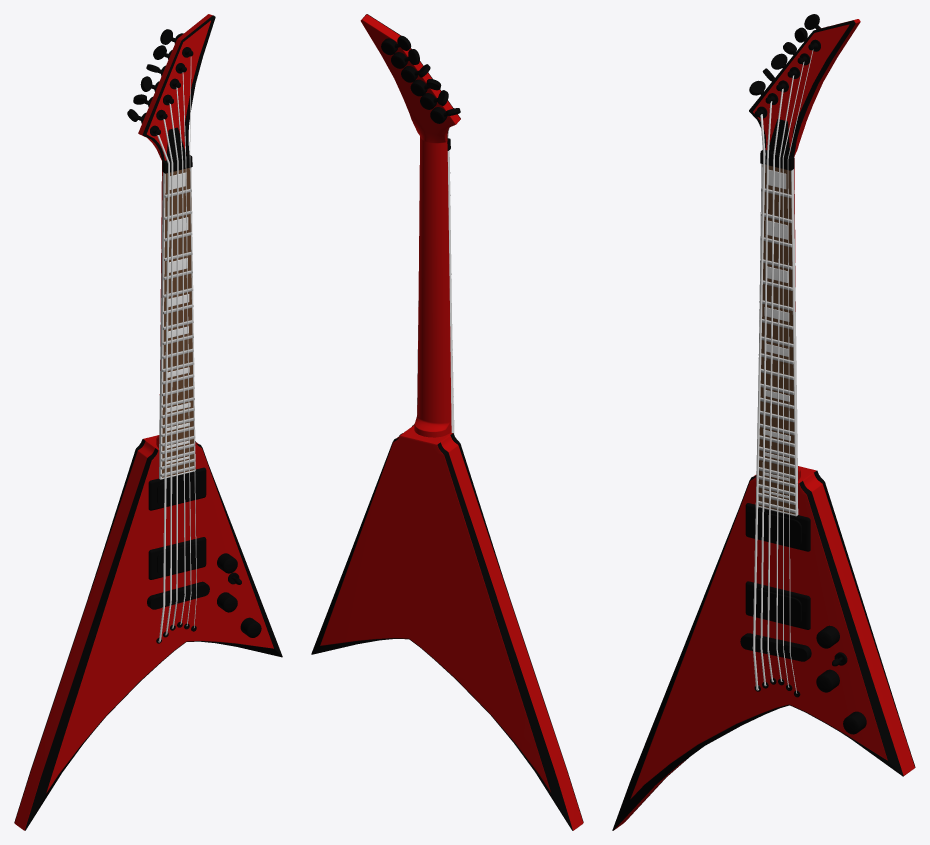
File: guitar.glb
3 views of the same model, side by side, from view 1: azimuth 30°, elevation 25°; view 2: azimuth 150°, elevation 25°; view 3: azimuth 330°, elevation 25° (orthographic). The views are drawn at different scales.
Visible parts, largest first — view 1: pCube2, pCube46, EbonyFingerboard, Neck, OptionalFingerboard, pCylinder14, pCylinder15, pCylinder16, Headline, pCylinder17, pCube43, pCube47 (+5 smaller); view 2: pCube2, Neck, pCube46, OptionalFingerboard; view 3: pCube2, pCube46, EbonyFingerboard, Neck, pCylinder14, pCylinder15, OptionalFingerboard, pCylinder16, Headline, pCylinder17, pCube43, pCube47 (+5 smaller).
Boxes of the visible parts, bbox=[...] form: pCube2: bbox=[14, 435, 273, 830]; pCube46: bbox=[14, 439, 282, 830]; EbonyFingerboard: bbox=[162, 168, 194, 477]; Neck: bbox=[138, 14, 212, 448]; OptionalFingerboard: bbox=[159, 167, 195, 479]; pCylinder14: bbox=[157, 135, 169, 642]; pCylinder15: bbox=[163, 119, 173, 635]; pCylinder16: bbox=[169, 103, 178, 628]; Headline: bbox=[142, 15, 215, 161]; pCylinder17: bbox=[176, 87, 185, 624]; pCube43: bbox=[157, 543, 201, 575]; pCube47: bbox=[157, 474, 201, 506]; pCube2: bbox=[320, 425, 583, 830]; Neck: bbox=[360, 14, 460, 437]; pCube46: bbox=[311, 424, 583, 830]; OptionalFingerboard: bbox=[417, 150, 453, 432]; pCube2: bbox=[614, 466, 914, 829]; pCube46: bbox=[612, 470, 915, 830]; EbonyFingerboard: bbox=[758, 164, 795, 514]; Neck: bbox=[753, 19, 860, 480]; pCylinder14: bbox=[752, 114, 765, 690]; pCylinder15: bbox=[760, 101, 772, 686]; OptionalFingerboard: bbox=[758, 163, 798, 516]; pCylinder16: bbox=[767, 88, 783, 682]; Headline: bbox=[749, 20, 855, 156]; pCylinder17: bbox=[776, 75, 794, 681]; pCube43: bbox=[752, 589, 801, 624]; pCube47: bbox=[752, 510, 801, 546].
Size of the model in its own units: 9.72 by 27.27 by 1.94.
